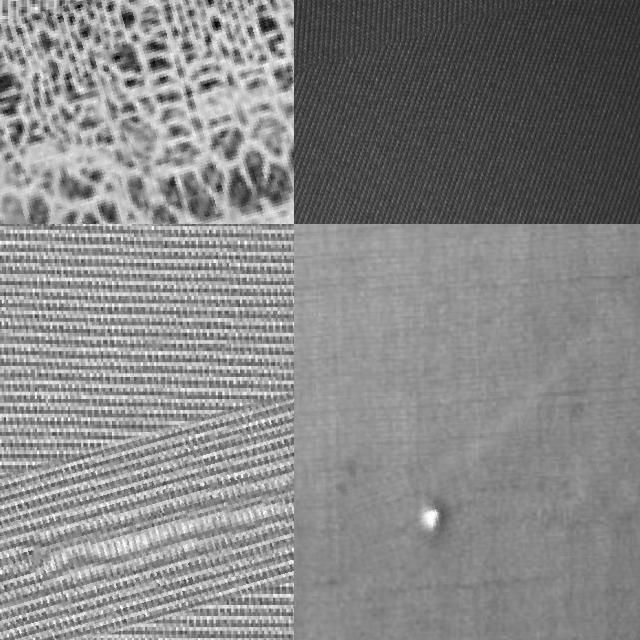Thread_other: (0, 401, 294, 640), (294, 0, 640, 96)
seam: (341, 456, 485, 568)
